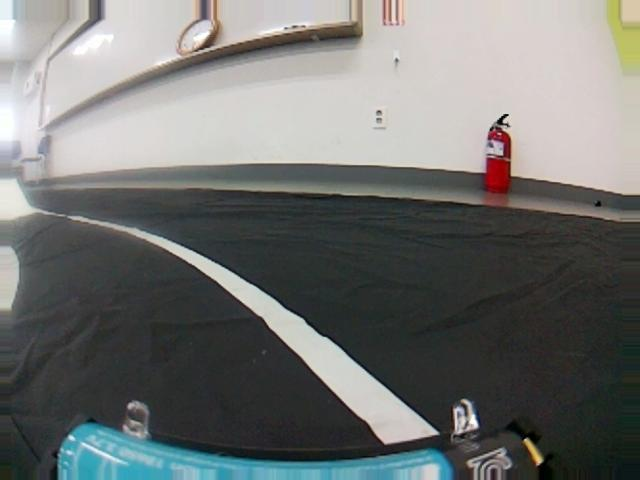left: (0, 202, 570, 479)
